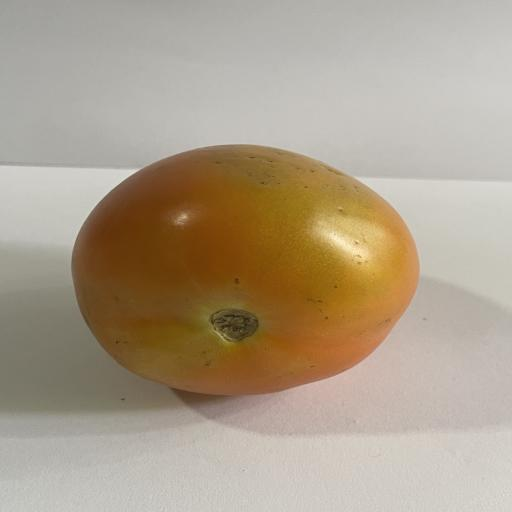unripe: (73, 145, 418, 395)
